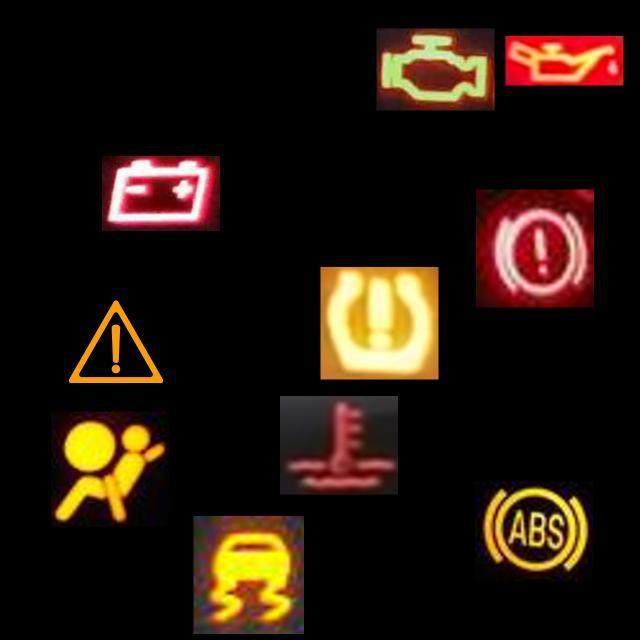Central Warning lamp: (57, 283, 175, 401)
Engine cooling system: (280, 396, 398, 494)
